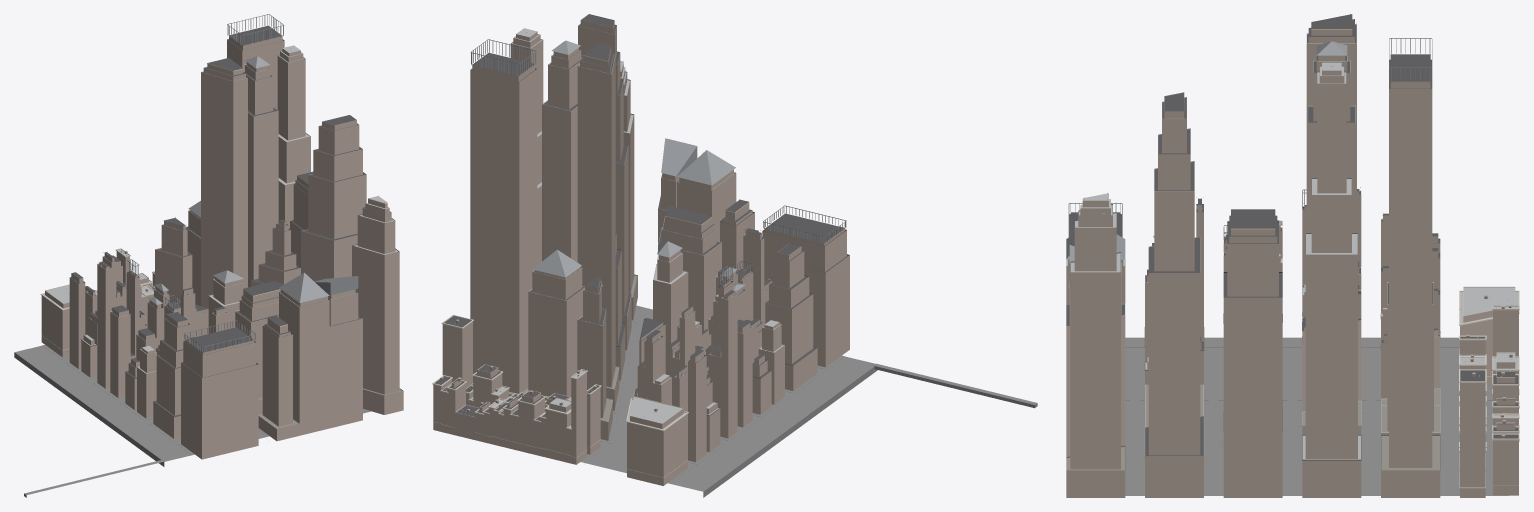
The picture shows the model from 3 angles, left to right: view 1: azimuth 30°, elevation 25°; view 2: azimuth 150°, elevation 25°; view 3: azimuth 270°, elevation 25°; orthographic projection. The views are drawn at different scales.
Visible parts, largest first — view 1: t02_facade, t02_roof, t02_ground, t02_detail; view 2: t02_facade, t02_roof, t02_ground, t02_detail; view 3: t02_facade, t02_ground, t02_roof, t02_detail.
Part boxes in pixels (box(x1,y1,x2,y2)): t02_facade: box(41, 36, 403, 459); t02_roof: box(43, 14, 401, 428); t02_ground: box(14, 345, 371, 497); t02_detail: box(40, 39, 402, 428); t02_facade: box(433, 20, 849, 485); t02_roof: box(434, 14, 848, 429); t02_ground: box(581, 305, 1037, 497); t02_detail: box(432, 14, 849, 477); t02_facade: box(1066, 29, 1518, 497); t02_ground: box(1125, 337, 1508, 495); t02_roof: box(1066, 14, 1518, 470); t02_detail: box(1066, 23, 1519, 488).
Size of the model in its own units: 614 by 488 by 461.
